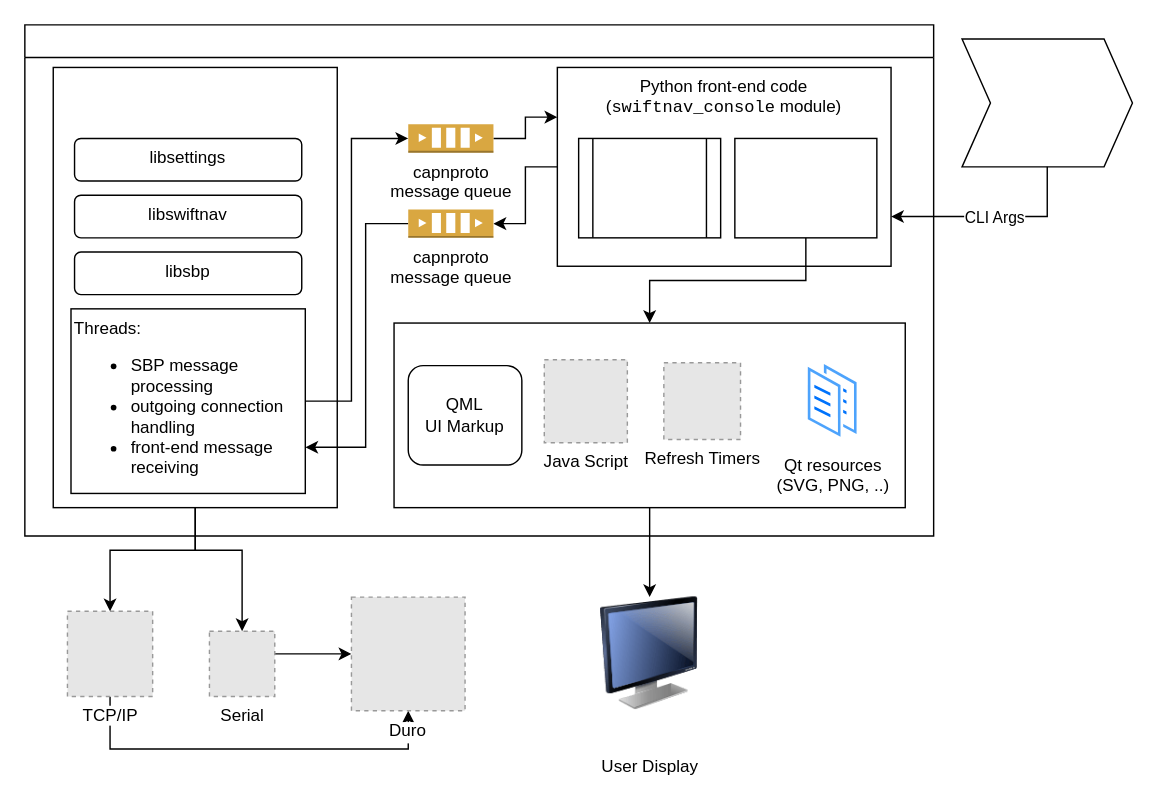
This 1157x802 diagram has some shape labels left out. Grey dashed boxes stand in for pictures. Here are the shapes that lost their labels. From the top down, the box of each, then its label:
(961, 38, 1132, 167): Application Launch (via shortcut or CLI)
(577, 137, 721, 238): IPC Messages Send/Recv Thread
(733, 137, 877, 238): Qt Objects / Data marshaling
(52, 66, 337, 508): Rust back-end (data processing & connectivity)
(23, 23, 934, 536): Python Host Process
(393, 322, 905, 508): Qt/QML Front-End
